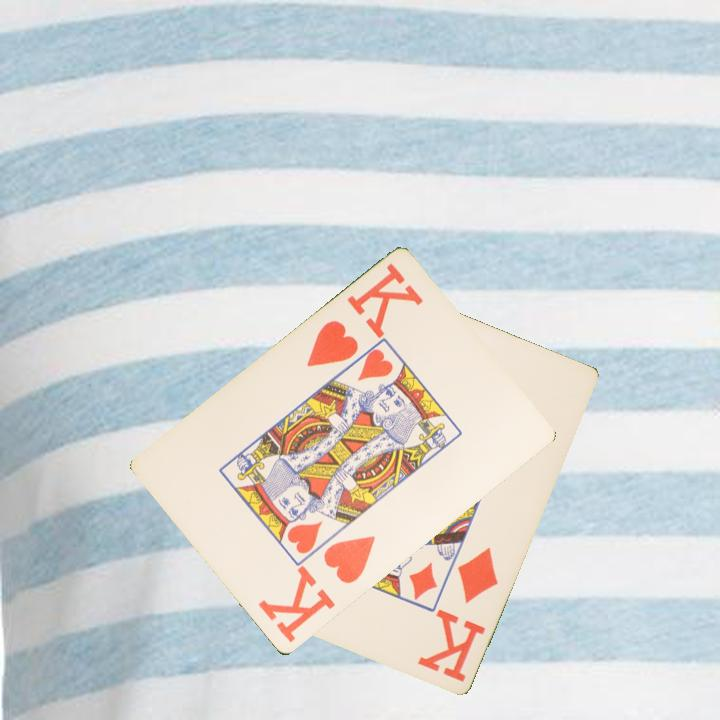Kd: (415, 543, 501, 685)
Kh: (254, 532, 379, 647), (302, 260, 426, 371)
